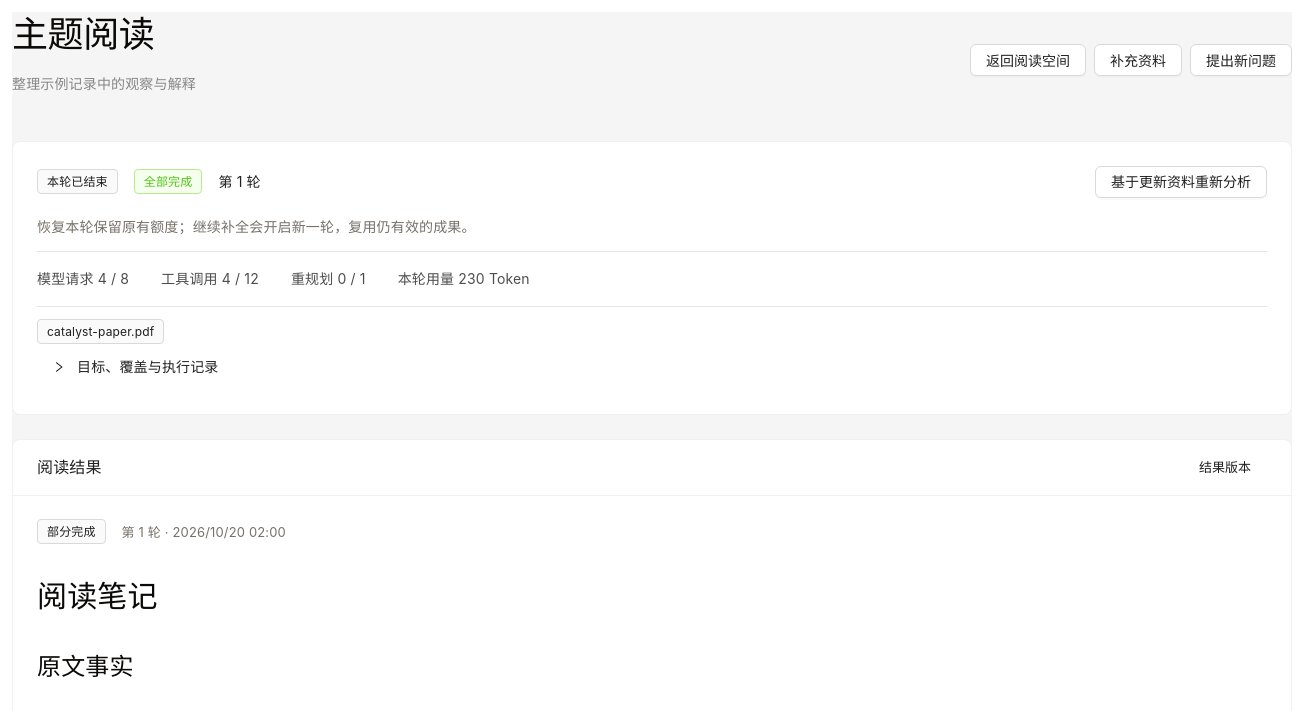
Test: 协同阅读与独立笔记（软件流程夹具） › explicitly rechecks updated sources even after the previous task was full
What coordinates should you click on to do the following:
click the button "基于更新资料重新分析"
I would click on:
 (1181, 182)
Its box is left=1095, top=166, right=1267, bottom=198.
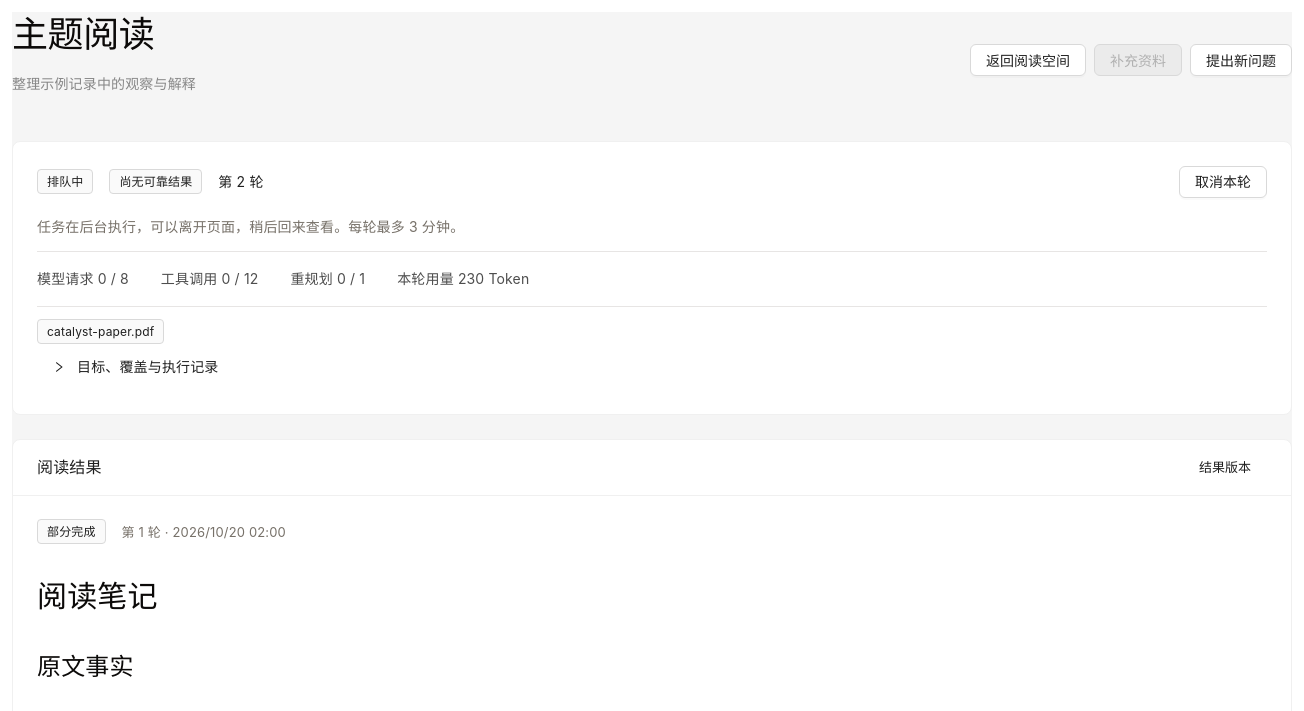
Check: the text "排队中" is shown, box left=37, top=169, right=94, bottom=194
